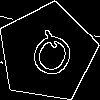Q: (22, 27, 79, 89)
